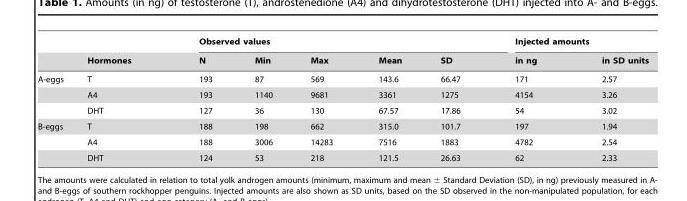table: (37, 36, 648, 162)
table column: (74, 36, 164, 162), (486, 36, 568, 162), (568, 36, 648, 162), (164, 36, 232, 162), (420, 36, 486, 162), (290, 36, 355, 162), (355, 36, 420, 162), (232, 36, 290, 162), (37, 36, 74, 162)
table column header: (37, 36, 648, 69)
table row: (37, 50, 648, 69), (37, 69, 648, 86), (37, 86, 648, 102), (37, 102, 648, 118), (37, 118, 648, 134), (37, 134, 648, 149), (37, 36, 648, 50), (37, 149, 648, 162)
table spanning cell: (164, 36, 486, 50), (74, 36, 164, 69), (486, 36, 648, 50), (37, 69, 74, 118), (37, 118, 74, 162)
